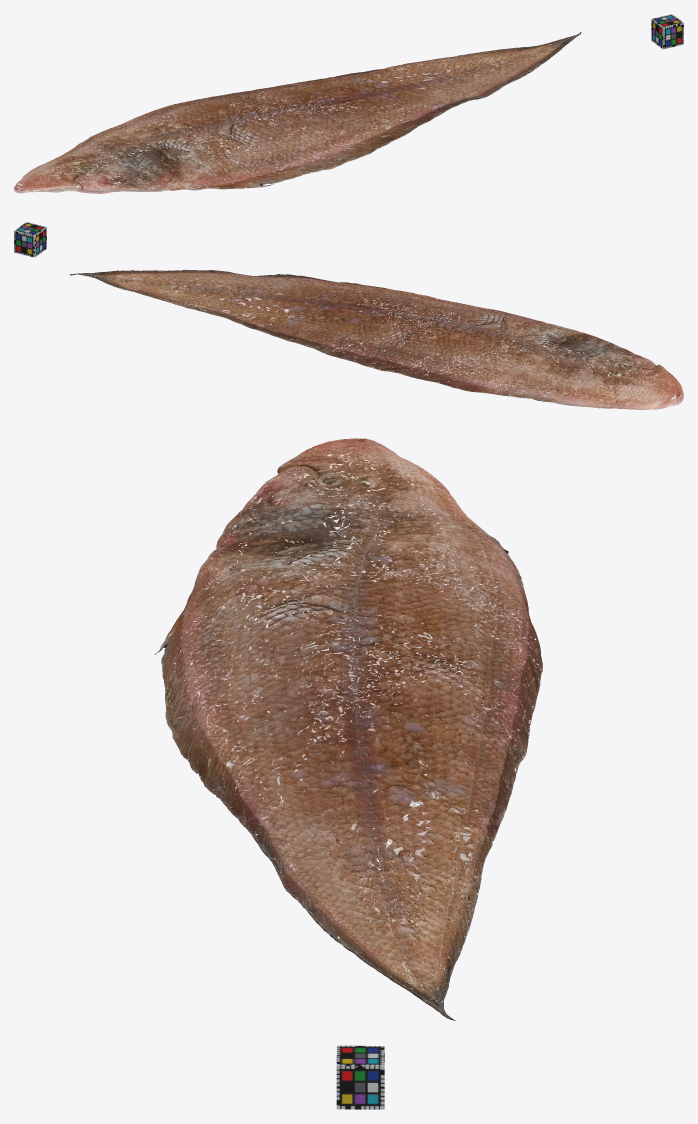
Rendered from scan_tongue_robust.glb.
3 views of the same model, one above another, from view 1: azimuth 30°, elevation 25°; view 2: azimuth 150°, elevation 25°; view 3: azimuth 270°, elevation 25° (orthographic). The views are drawn at different scales.
Parts seen in each view (by area): view 1: Object_6, Object_12, Object_4; view 2: Object_6, Object_12, Object_4; view 3: Object_6, Object_12, Object_4.
Part boxes in pixels (x1,y1,x2,y2): Object_6: (14, 33, 580, 193); Object_12: (14, 32, 581, 193); Object_4: (651, 14, 683, 49); Object_6: (73, 269, 683, 409); Object_12: (70, 270, 683, 408); Object_4: (14, 222, 46, 257); Object_6: (155, 439, 542, 1018); Object_12: (155, 438, 542, 1020); Object_4: (336, 1045, 384, 1109).
Size of the model in its own units: 18.6 by 0.9009 by 4.73.
Materials: 3 (3 with a texture image).
